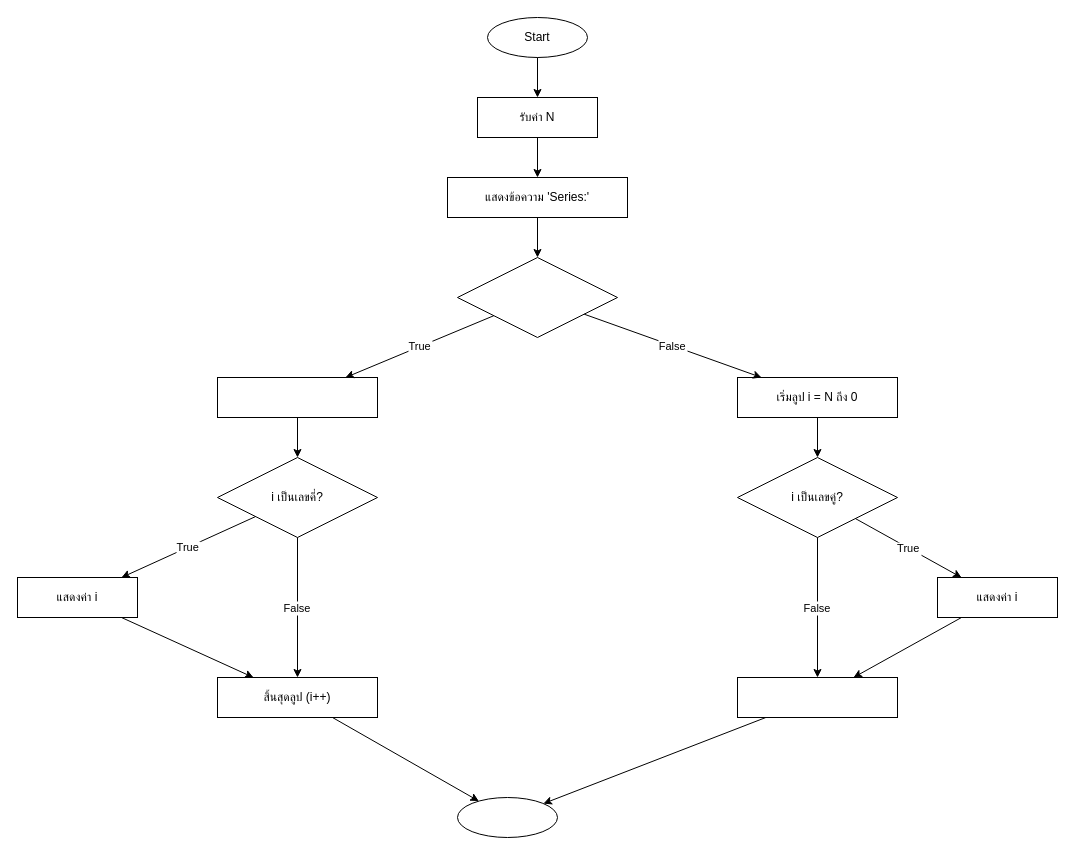
Image size: 1075x855. Some labels were removed from this diagram. The shapes that lost their labels are listed below. From the top down, each one's centre as x and y in pixels, then its label:
At (537,297): "N เป็นเลขคี่?".
At (297,397): "เริ่มลูป i = 1 ถึง N".
At (817,697): "สิ้นสุดลูป (i--)".
At (507,817): "Stop".
